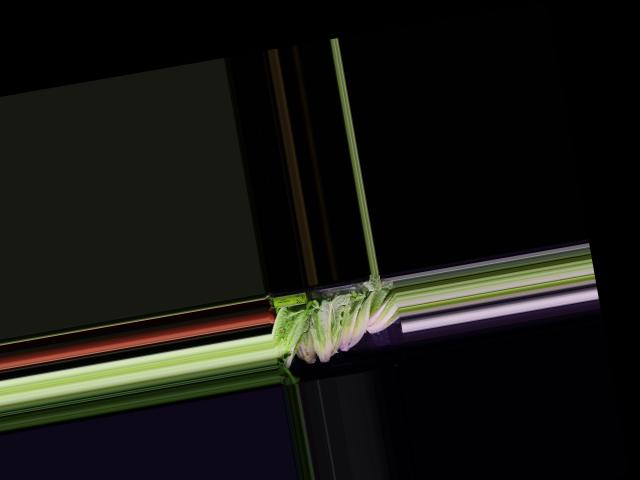lettuce: (357, 289, 403, 336)
